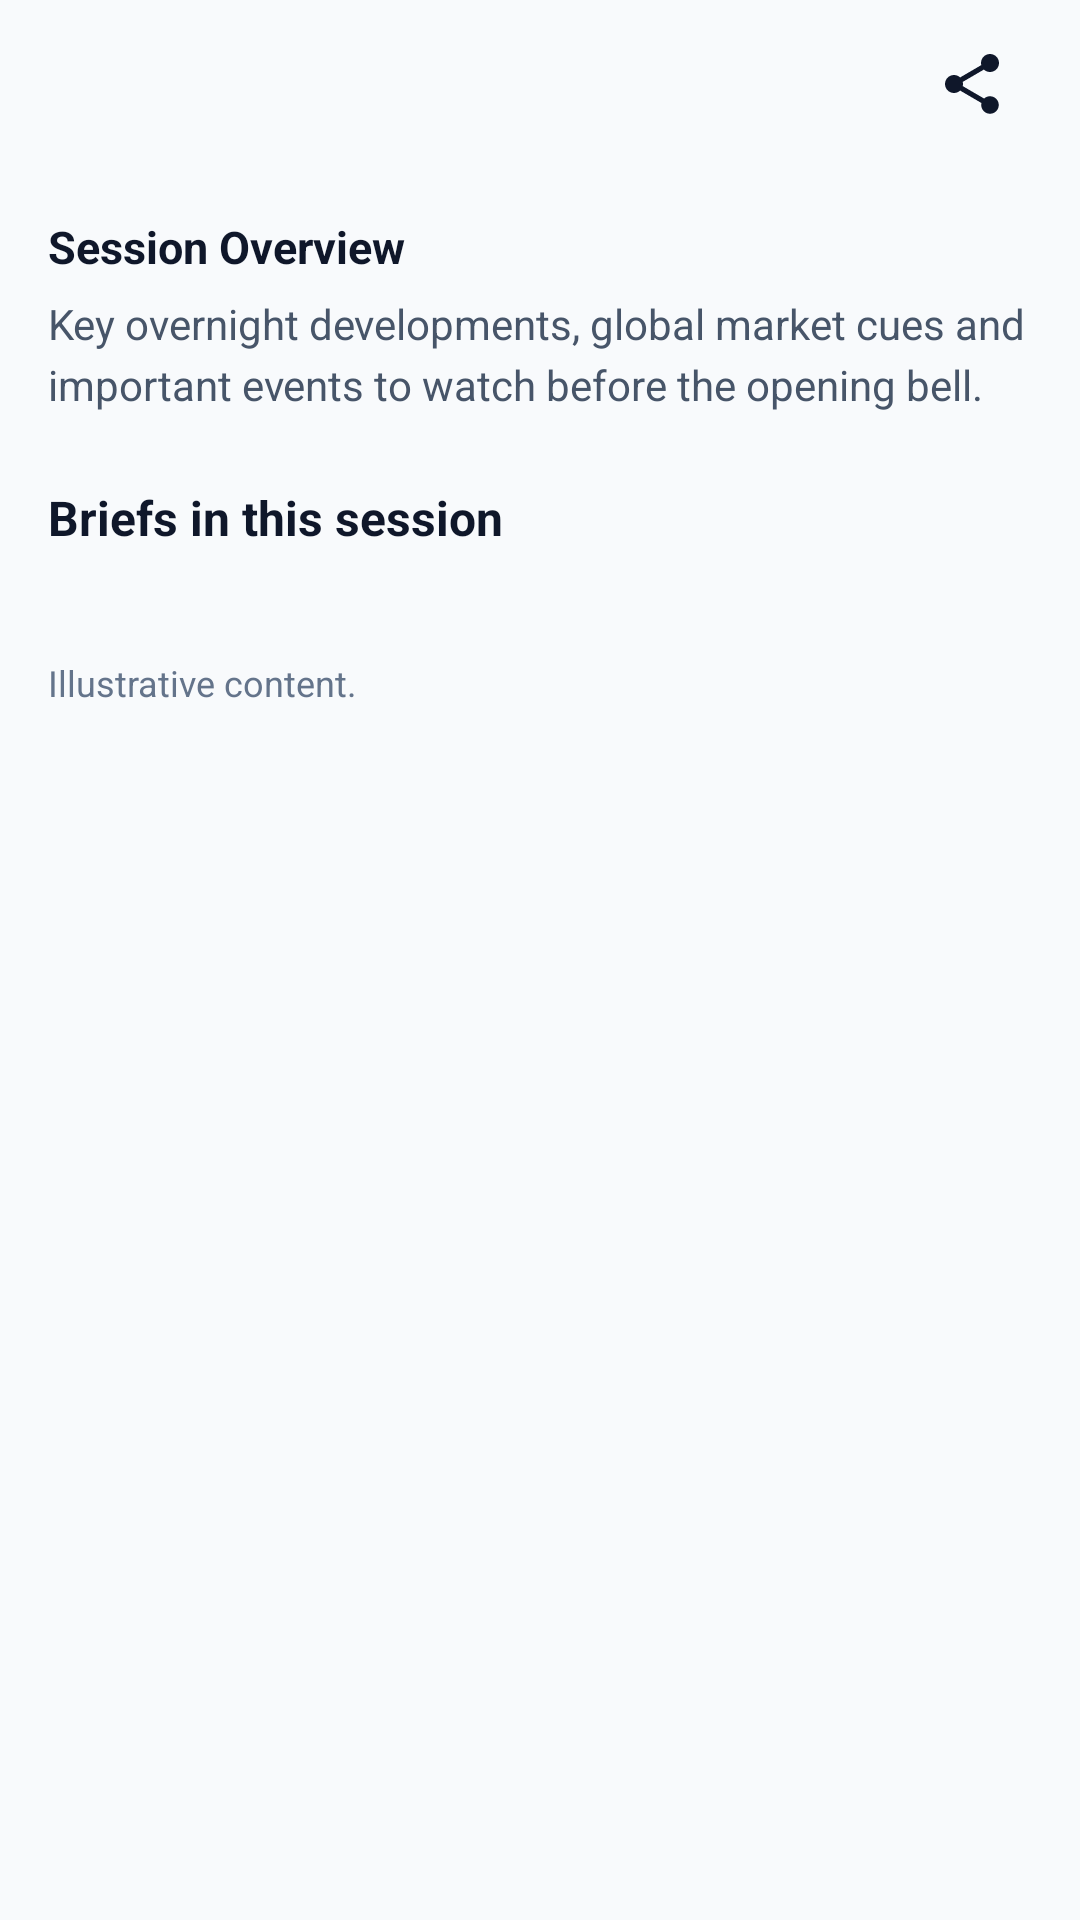

Locate icon controls on the screen. Image size 1080w x 1920h, boxes as (x1, y1, x2, y2).
Share: (945, 54, 999, 114)
